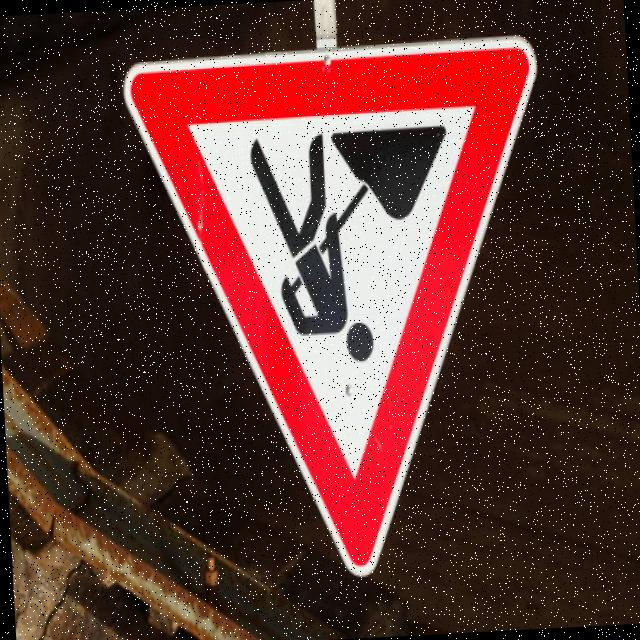road_work: (114, 32, 564, 590)
